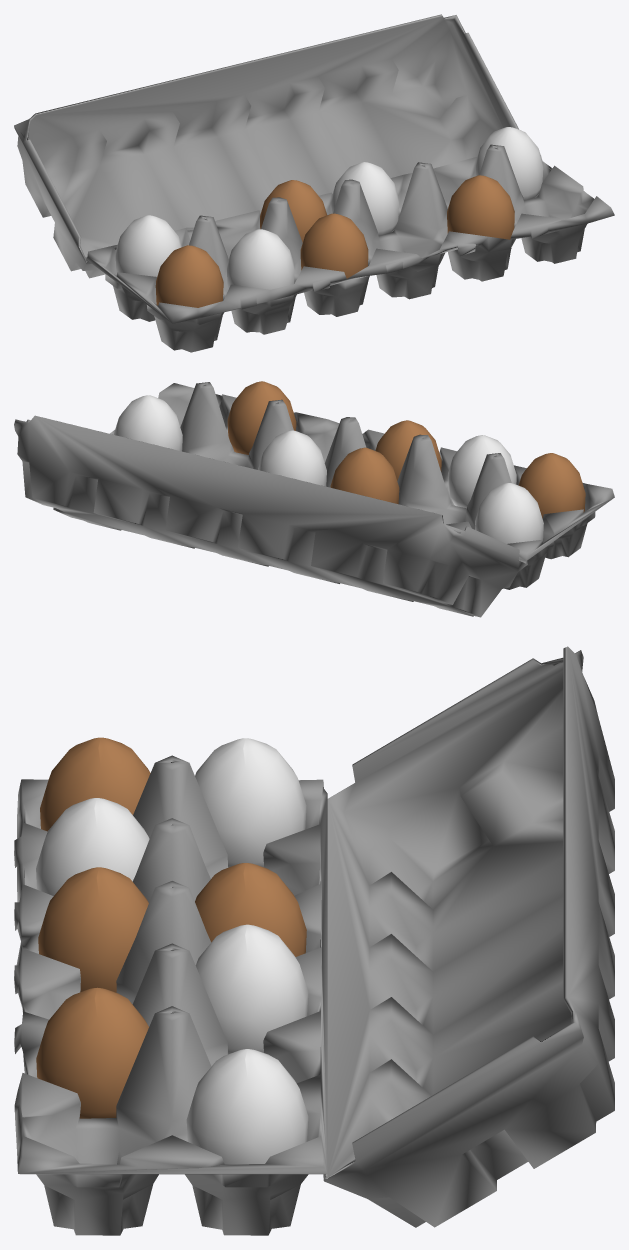
File: eggshell.fbx
3 renders of one model, top to bottom at view 1: azimuth 30°, elevation 25°; view 2: azimuth 150°, elevation 25°; view 3: azimuth 270°, elevation 25°, orthographic. The views are drawn at different scales.
Visible parts, largest first — view 1: eggshell; view 2: eggshell; view 3: eggshell.
Part boxes in pixels (box(x1,y1,x2,y2)): eggshell: box(14, 14, 614, 352); eggshell: box(14, 381, 614, 617); eggshell: box(14, 646, 614, 1235).
Size of the model in its own units: 10 by 6.66 by 2.94.
